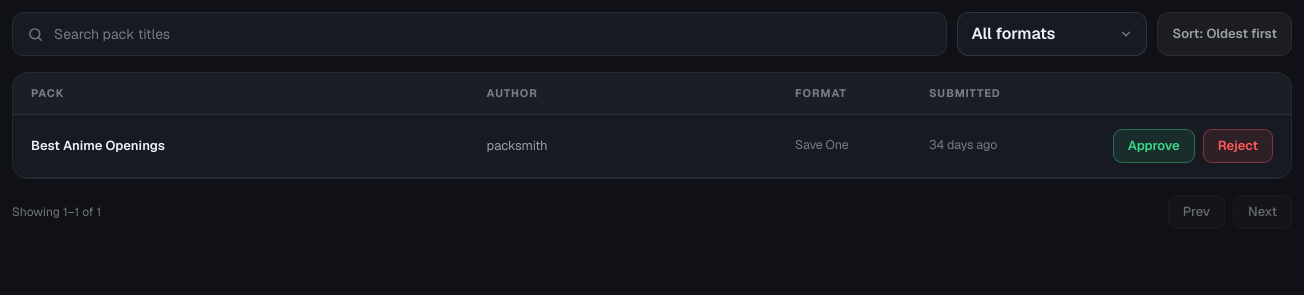
Test case: PackApprovalsTab › offers every named format in the filter
Expected: the link "Best Anime Openings" is shown, [31,137,165,154]
Click the dropdown named "Filter by format": click(1052, 34) [958,12,1148,56]
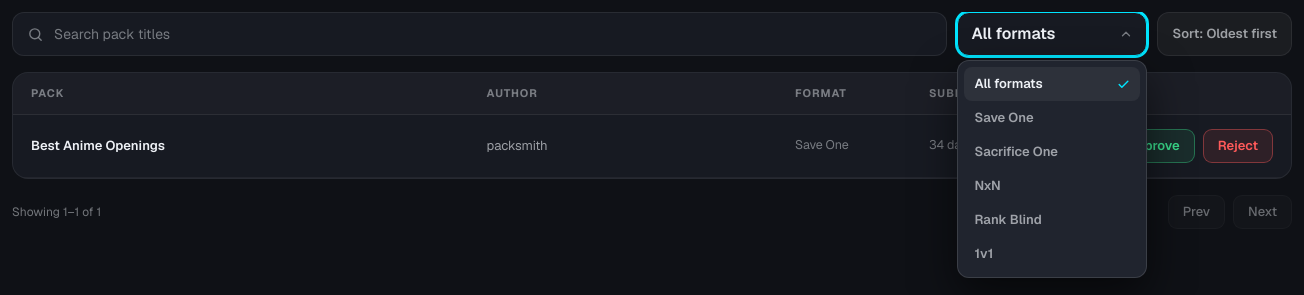
Now the number of options is 6, box [964,67,1140,101]; [974,109,1034,126]; [974,143,1058,160]; [974,177,1001,194]; [974,211,1042,228]; [974,245,993,262]
Now the options read "All formats", "Save One", "Sacrifice One", "NxN", "Rank Blind", "1v1", in this order, box [964,67,1140,101]; [974,109,1034,126]; [974,143,1058,160]; [974,177,1001,194]; [974,211,1042,228]; [974,245,993,262]
